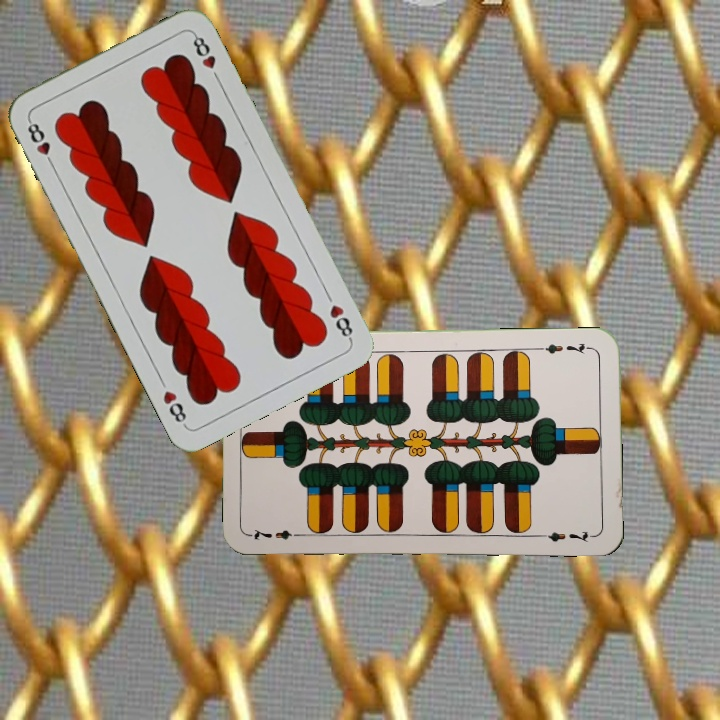E7: (535, 338, 594, 357), (248, 525, 307, 542)
H8: (23, 115, 58, 170), (325, 300, 356, 344)
